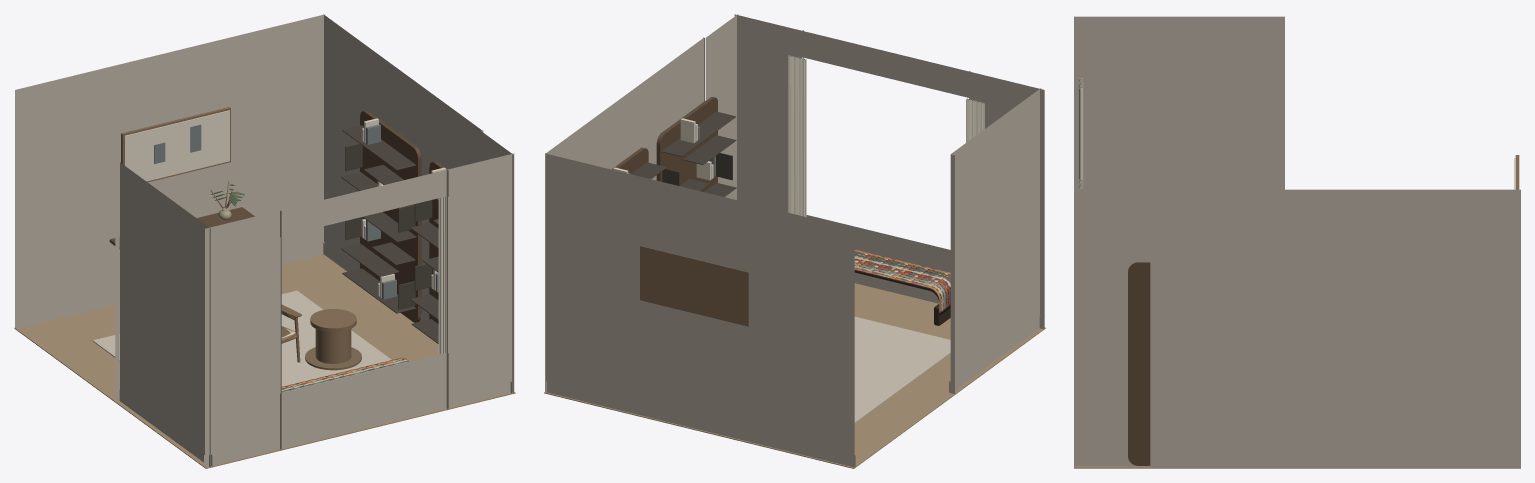
Rendered from formal-2.glb.
The picture shows the model from 3 angles, left to right: view 1: azimuth 30°, elevation 25°; view 2: azimuth 150°, elevation 25°; view 3: azimuth 270°, elevation 25°; orthographic projection. The views are drawn at different scales.
Visible parts, largest first — view 1: DESIGN | formal removable wall finish, DESIGN | formal floor finish, DESIGN | Required Blabla bookcase 2, DESIGN | Textile artwork, DESIGN | Formal ground, DESIGN | Required Blabla bookcase 1, DESIGN | Formal soft window edge.001, DESIGN | Tea side table pedestal, DESIGN | Tea side table top, DESIGN | Required Brera anniversary window bench, DESIGN | Quiet artwork frame, DESIGN | Tea side table base (+2 smaller); view 2: DESIGN | formal removable wall finish, DESIGN | formal floor finish, DESIGN | Quiet artwork frame, DESIGN | Formal ground, DESIGN | Required Blabla bookcase 1, DESIGN | Formal soft window edge.001, DESIGN | Required Brera anniversary window bench, DESIGN | Required Blabla bookcase 2, DESIGN | Formal soft window edge; view 3: DESIGN | formal removable wall finish, DESIGN | Required Blabla bookcase 1, DESIGN | formal floor finish, DESIGN | Formal soft window edge.
Part boxes in pixels (x1,y1,x2,y2): DESIGN | formal removable wall finish: (15,14,514,466); DESIGN | formal floor finish: (14,254,515,468); DESIGN | Required Blabla bookcase 2: (341,110,421,322); DESIGN | Textile artwork: (124,110,229,181); DESIGN | Formal ground: (92,290,391,386); DESIGN | Required Blabla bookcase 1: (410,161,447,343); DESIGN | Formal soft window edge.001: (438,196,446,354); DESIGN | Tea side table pedestal: (315,329,351,363); DESIGN | Tea side table top: (310,309,356,332); DESIGN | Required Brera anniversary window bench: (281,357,409,392); DESIGN | Quiet artwork frame: (121,107,230,182); DESIGN | Tea side table base: (305,347,361,370); DESIGN | formal removable wall finish: (545,14,1044,467); DESIGN | formal floor finish: (544,283,1045,468); DESIGN | Quiet artwork frame: (640,246,748,326); DESIGN | Formal ground: (854,316,950,423); DESIGN | Required Blabla bookcase 1: (656,97,736,196); DESIGN | Formal soft window edge.001: (788,55,806,216); DESIGN | Required Brera anniversary window bench: (854,249,950,325); DESIGN | Required Blabla bookcase 2: (611,147,666,178); DESIGN | Formal soft window edge: (966,98,984,142); DESIGN | formal removable wall finish: (1074,16,1520,467); DESIGN | Required Blabla bookcase 1: (1128,262,1150,465); DESIGN | formal floor finish: (1074,466,1520,468); DESIGN | Formal soft window edge: (1078,78,1083,181).
Bounding box in the file's own units: 3.71 × 2.74 × 3.98.
